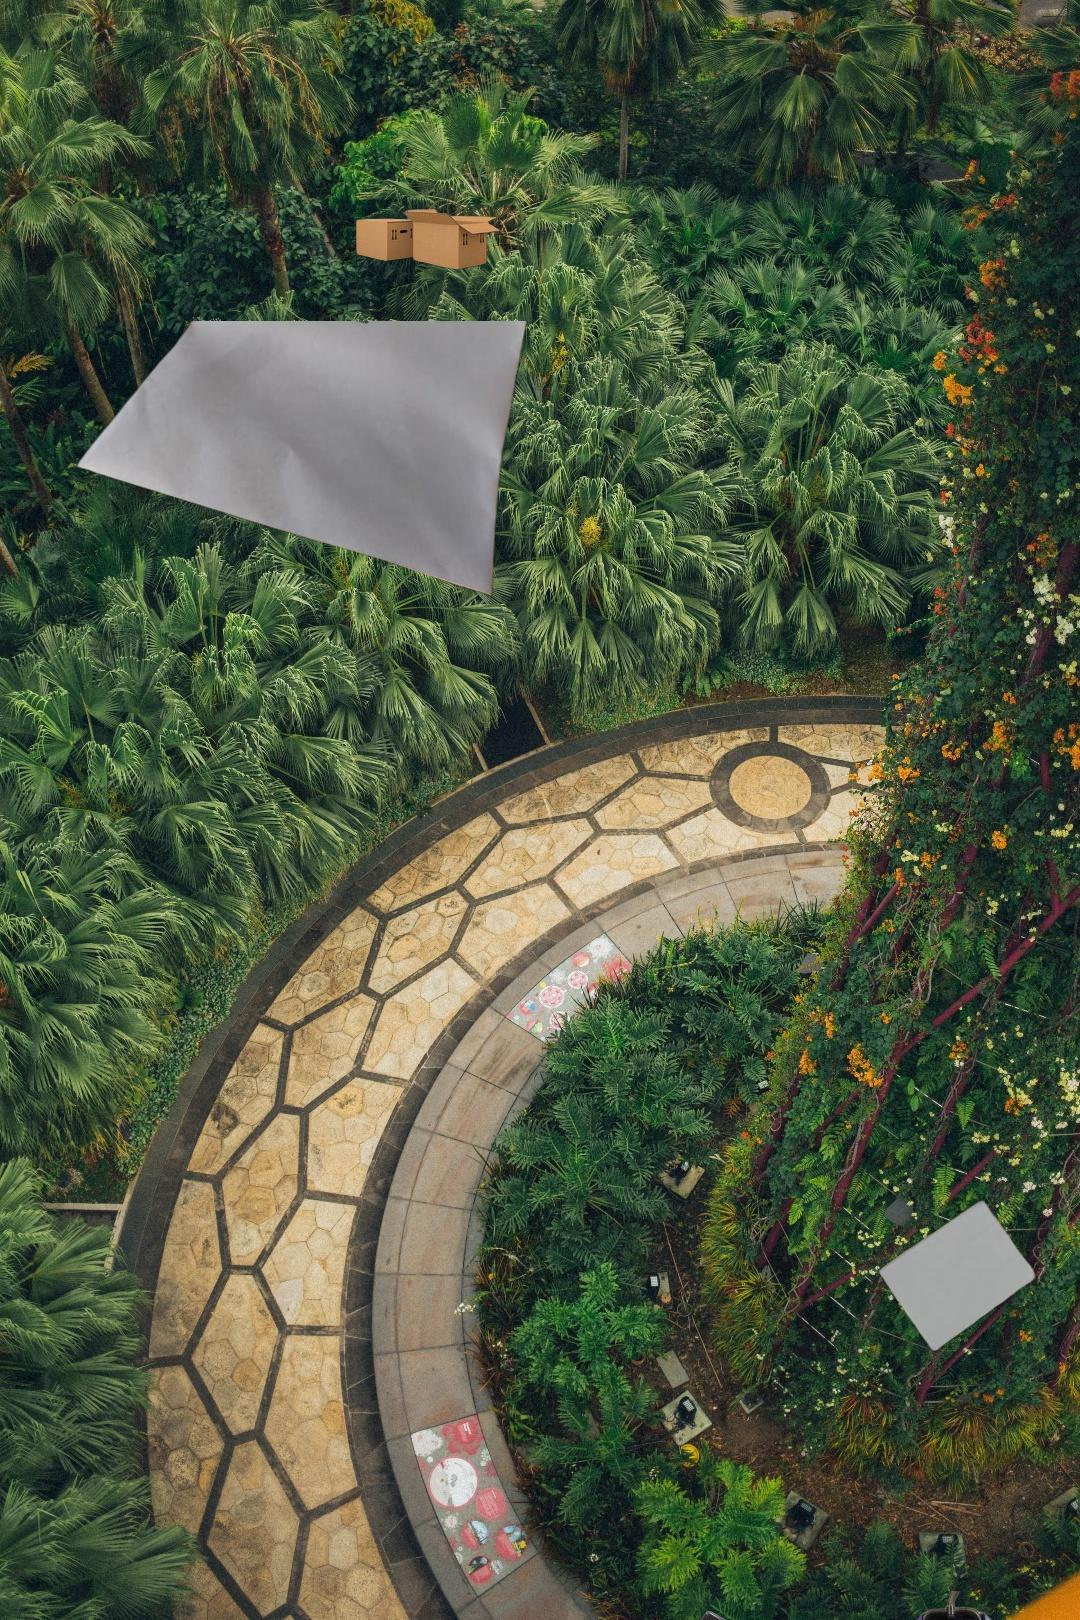battery: (645, 1608, 845, 1620)
clothes: (777, 1591, 1080, 1620)
paper: (72, 321, 532, 598)
paper-bag: (877, 1197, 1051, 1354)
trash: (1050, 14, 1080, 196)
trashbox-cardboard: (352, 206, 505, 272)
